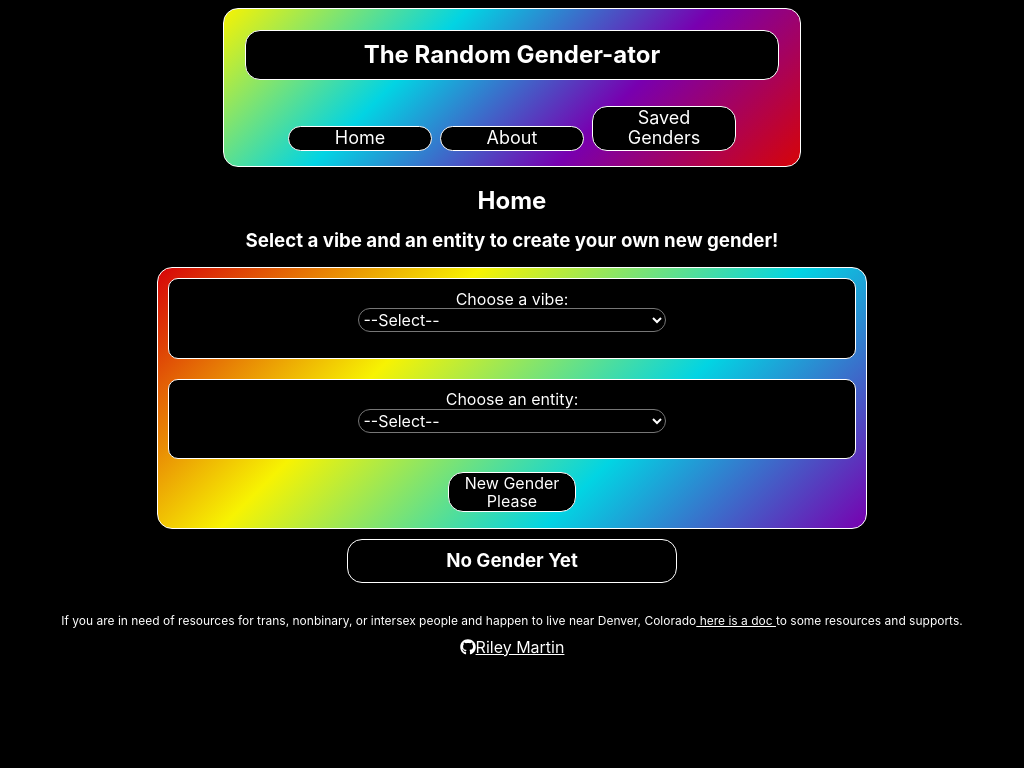
Test: Form › Form Error Handling › Should return an error message if the user does not fill out all input fields
The image size is (1024, 768).
Select "Trash" in the dropdown named "vibe": (512, 320) [358,308,665,332]
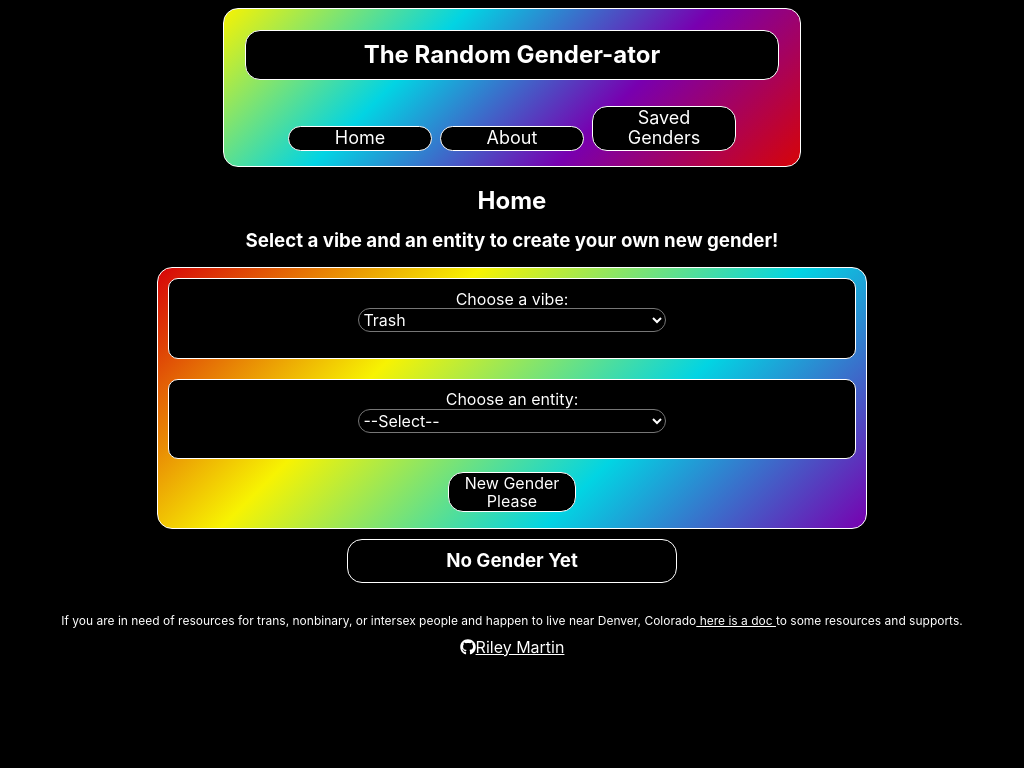
Click the button with class "new-gender-btn": (512, 493) [448,472,576,513]
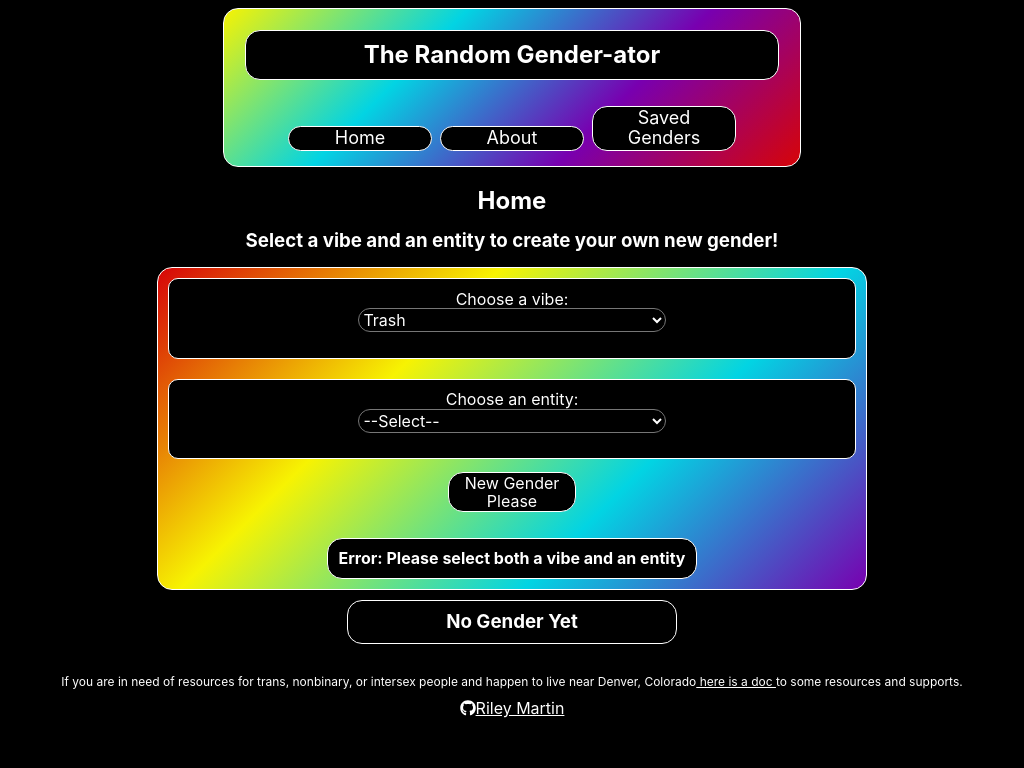
Now the element with class "error" reads "Error: Please select both a vibe and an entity", box [327,538,697,579]
